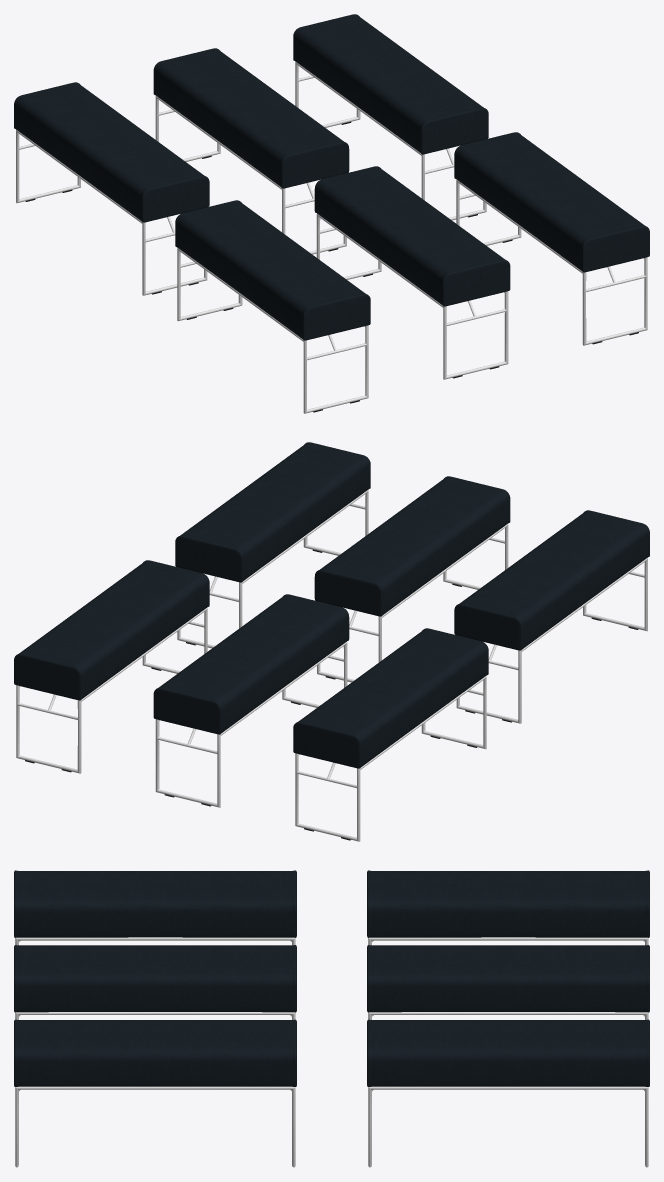
File: multiple_benches_01.glb
3 views of the same model, one above another, from view 1: azimuth 30°, elevation 25°; view 2: azimuth 150°, elevation 25°; view 3: azimuth 270°, elevation 25° (orthographic). The views are drawn at different scales.
Parts seen in each view (by area): view 1: allermuir_pause_PSB154H_main_03_obj.001, allermuir_pause_PSB154H_main_03_obj, allermuir_pause_PSB154H_main_03_obj.005, allermuir_pause_PSB154H_main_03_obj.003, allermuir_pause_PSB154H_main_03_obj.002, allermuir_pause_PSB154H_main_03_obj.004; view 2: allermuir_pause_PSB154H_main_03_obj.003, allermuir_pause_PSB154H_main_03_obj.002, allermuir_pause_PSB154H_main_03_obj.004, allermuir_pause_PSB154H_main_03_obj.001, allermuir_pause_PSB154H_main_03_obj, allermuir_pause_PSB154H_main_03_obj.005; view 3: allermuir_pause_PSB154H_main_03_obj.004, allermuir_pause_PSB154H_main_03_obj.005, allermuir_pause_PSB154H_main_03_obj, allermuir_pause_PSB154H_main_03_obj.002, allermuir_pause_PSB154H_main_03_obj.001, allermuir_pause_PSB154H_main_03_obj.003.
Part boxes in pixels (<box>): allermuir_pause_PSB154H_main_03_obj.001: <box>175,200,370,413</box>; allermuir_pause_PSB154H_main_03_obj: <box>314,166,510,379</box>; allermuir_pause_PSB154H_main_03_obj.005: <box>454,132,649,345</box>; allermuir_pause_PSB154H_main_03_obj.003: <box>14,82,209,295</box>; allermuir_pause_PSB154H_main_03_obj.002: <box>153,48,349,254</box>; allermuir_pause_PSB154H_main_03_obj.004: <box>293,14,488,220</box>; allermuir_pause_PSB154H_main_03_obj.003: <box>293,628,488,841</box>; allermuir_pause_PSB154H_main_03_obj.002: <box>153,594,349,807</box>; allermuir_pause_PSB154H_main_03_obj.004: <box>14,560,209,773</box>; allermuir_pause_PSB154H_main_03_obj.001: <box>454,510,649,723</box>; allermuir_pause_PSB154H_main_03_obj: <box>314,476,510,682</box>; allermuir_pause_PSB154H_main_03_obj.005: <box>175,442,370,648</box>; allermuir_pause_PSB154H_main_03_obj.004: <box>367,1019,649,1167</box>; allermuir_pause_PSB154H_main_03_obj.005: <box>14,1019,296,1167</box>; allermuir_pause_PSB154H_main_03_obj: <box>14,945,296,1019</box>; allermuir_pause_PSB154H_main_03_obj.002: <box>367,945,649,1019</box>; allermuir_pause_PSB154H_main_03_obj.001: <box>14,870,296,945</box>; allermuir_pause_PSB154H_main_03_obj.003: <box>367,870,649,945</box>.
Size of the model in its own units: 248 by 72.82 by 360.
Materials: 18 (6 with a texture image).
